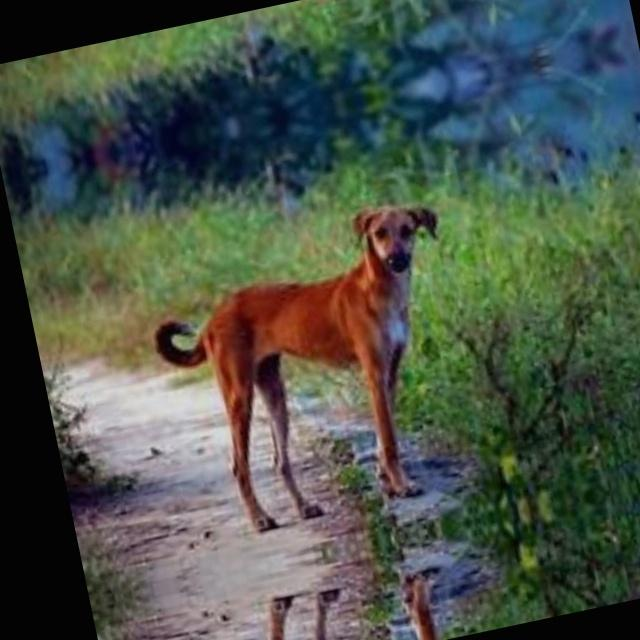dog: (116, 172, 512, 560), (191, 535, 538, 640), (76, 0, 410, 68)
